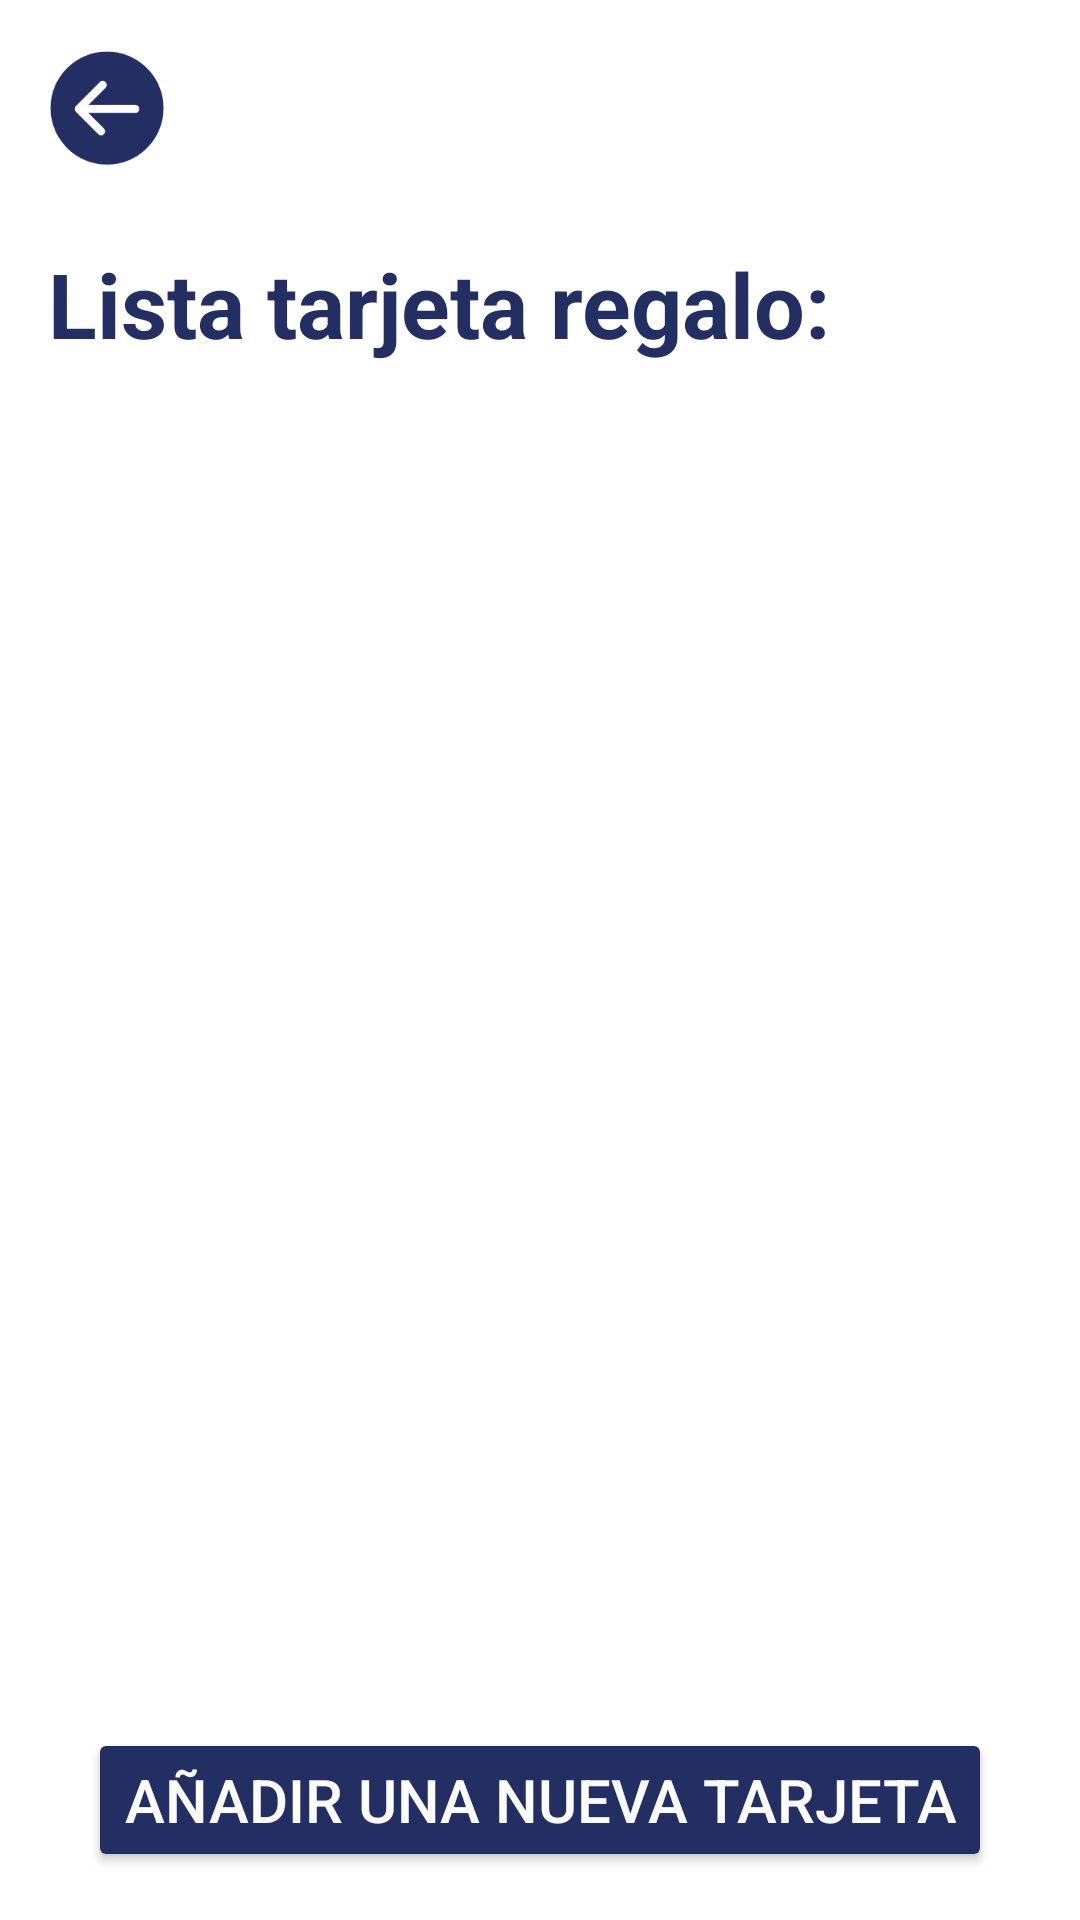

Point at icon controls on the screen. Image size 1080w x 1920h, points as point (x, y).
goback: point (107, 108)
